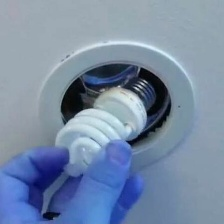light_bulb: (39, 72, 163, 183)
